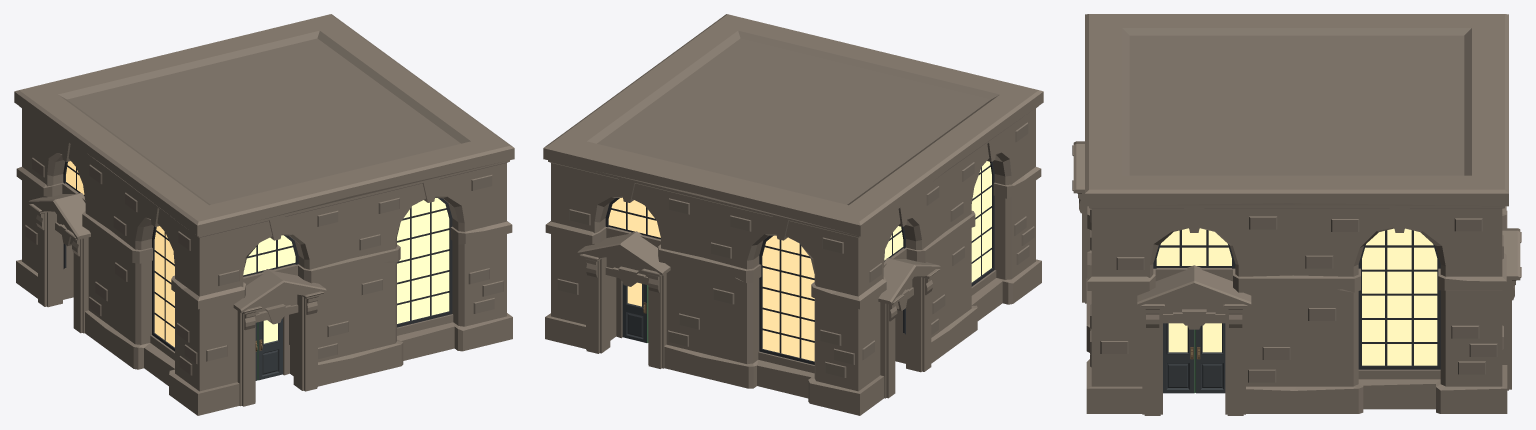
The model's file is SM_Bld_OfficeOld_Small_Base_01.fbx.
3 views of the same model, side by side, from view 1: azimuth 30°, elevation 25°; view 2: azimuth 150°, elevation 25°; view 3: azimuth 270°, elevation 25° (orthographic). The views are drawn at different scales.
Visible parts, largest first — view 1: SM_Bld_OfficeOld_Small_Base_01; view 2: SM_Bld_OfficeOld_Small_Base_01; view 3: SM_Bld_OfficeOld_Small_Base_01.
Boxes of the visible parts, x1=… form: SM_Bld_OfficeOld_Small_Base_01: x1=14, y1=14, x2=514, y2=415; SM_Bld_OfficeOld_Small_Base_01: x1=543, y1=14, x2=1043, y2=415; SM_Bld_OfficeOld_Small_Base_01: x1=1072, y1=14, x2=1521, y2=415.
Size of the model in its own units: 1094 by 600 by 1094.
